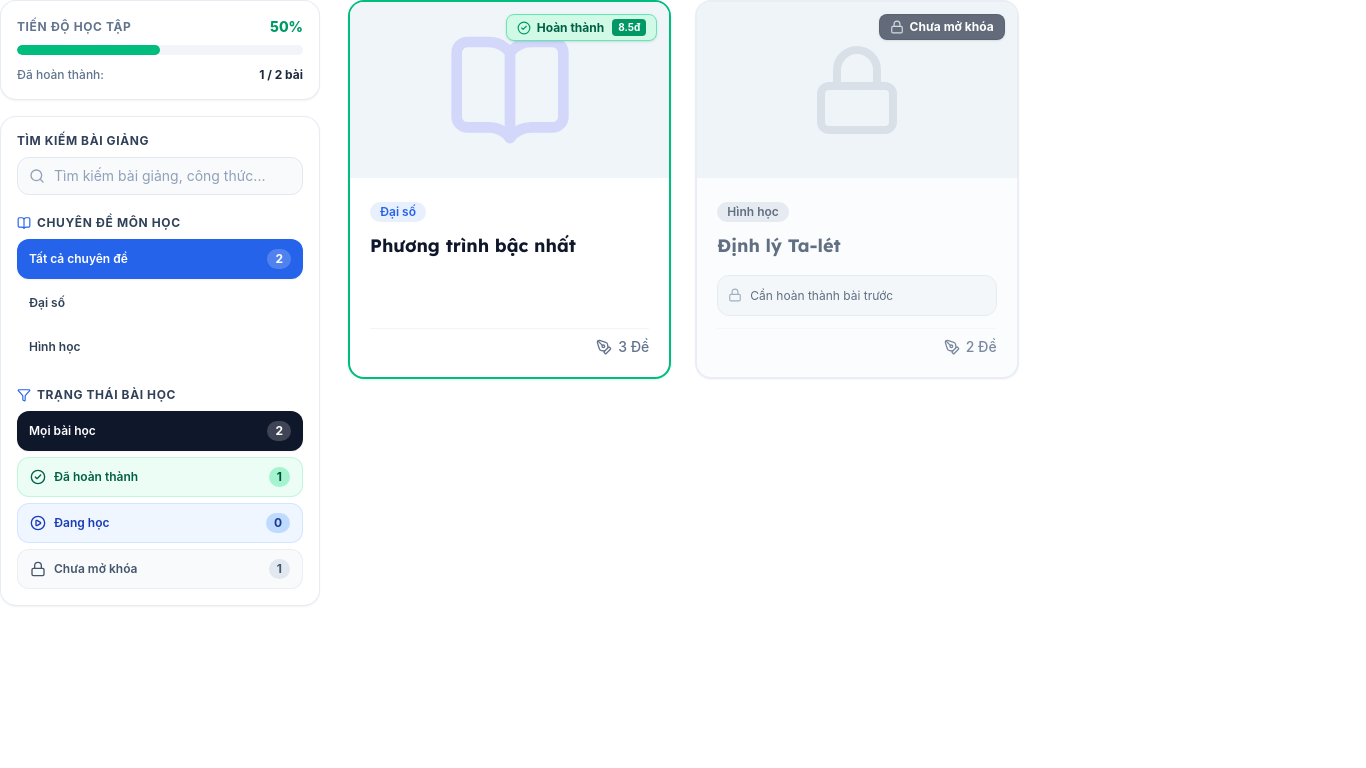
Test: GradeLectureList › filters lectures by search query
Type "Ta-lét" into the field with placeholder "Tìm kiếm bài giảng, công thức..." at (160,176), box [17, 157, 303, 195]
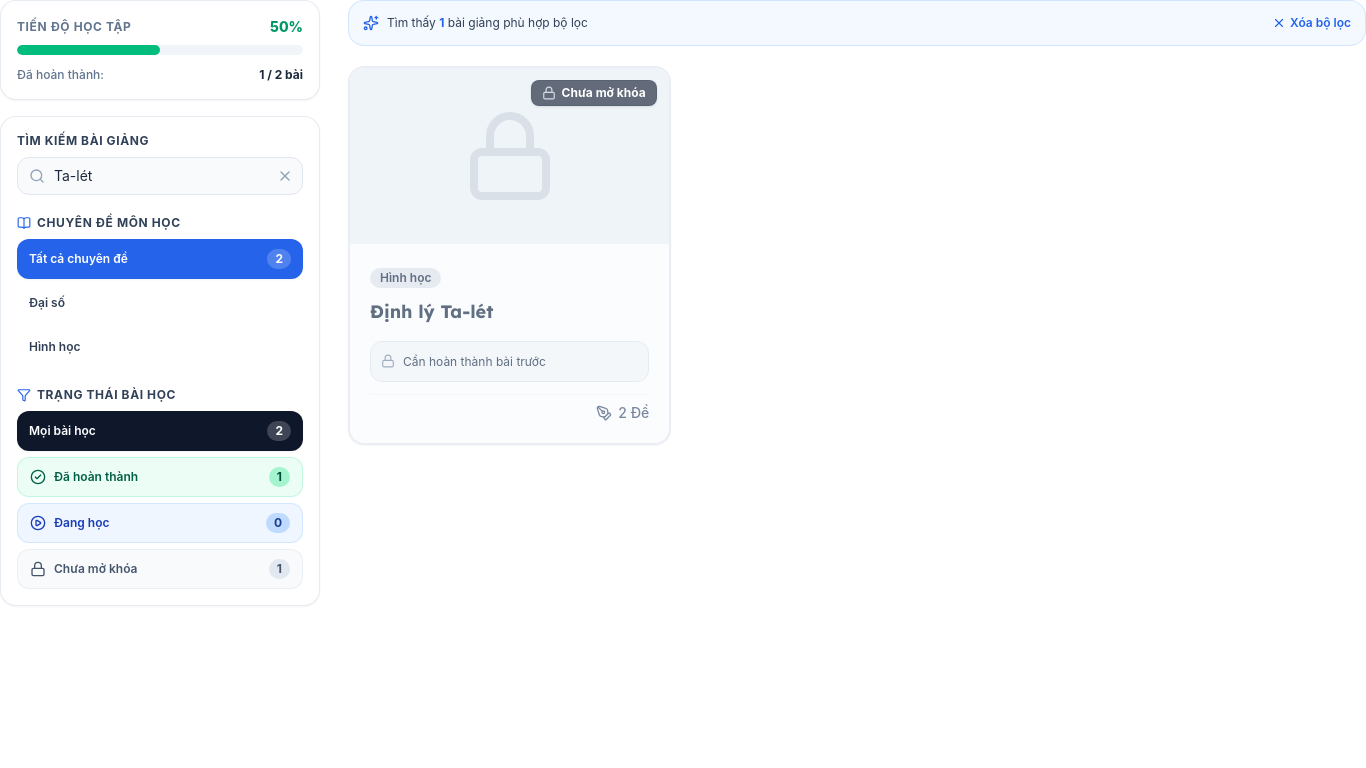
expect the heading "Định lý Ta-lét" is shown: met, box [370, 300, 493, 323]
expect the link "Phương trình bậc nhất" is gone: met
